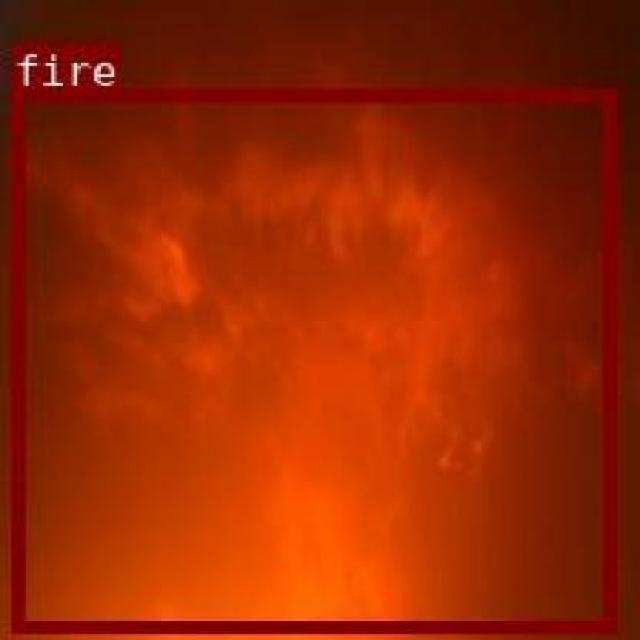fire: (10, 88, 613, 631)
